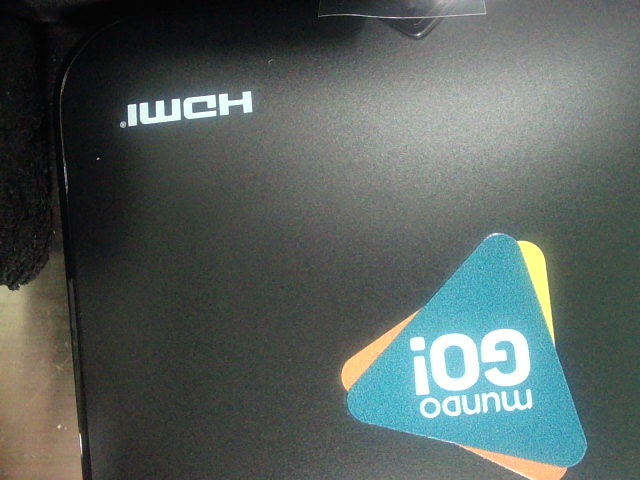AP_IPGMundoGO: (313, 222, 601, 467)
